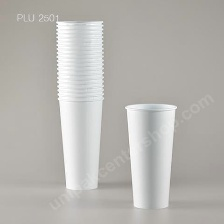paper_cup: (50, 14, 110, 193), (120, 97, 182, 212)
